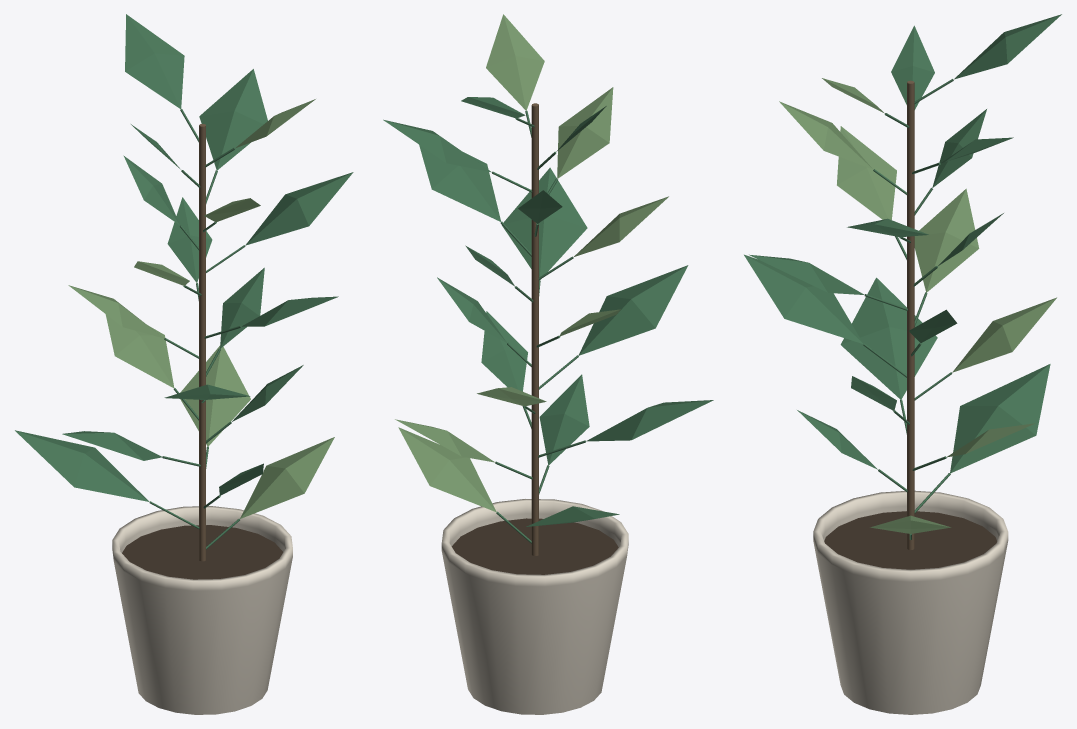
Rendered from plant_indoor_tall.glb.
3 views of the same model, side by side, from view 1: azimuth 30°, elevation 25°; view 2: azimuth 150°, elevation 25°; view 3: azimuth 270°, elevation 25° (orthographic). The views are drawn at different scales.
Visible parts, largest first — view 1: plant_indoor_tall; view 2: plant_indoor_tall; view 3: plant_indoor_tall.
Boxes of the visible parts, <box> form: plant_indoor_tall: <box>15,14,353,714</box>; plant_indoor_tall: <box>383,14,713,714</box>; plant_indoor_tall: <box>744,14,1061,714</box>.
Size of the model in its own units: 0.8517 by 1.74 by 0.753.
